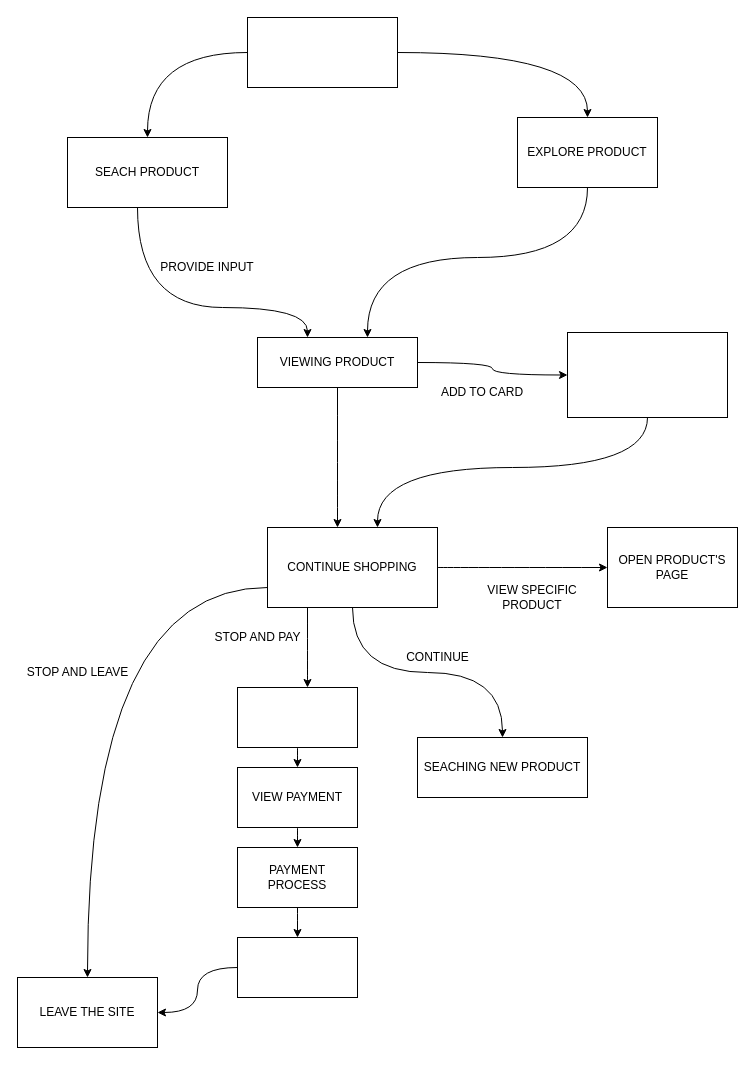
The diagram is 755 pixels wide and 1065 high, and some of its shapes have lost their labels. The shapes that lost their labels are listed below. From the top down, each one's box as (x1, y1, x2, y2) in pixels, then its label:
(246, 16, 398, 88): OPEN WEBSITE
(566, 332, 728, 418): ADDED CONFIRMATION
(236, 686, 358, 748): VIEW CART
(236, 936, 358, 998): ORDER AND EMAIL CONFIRMARION
